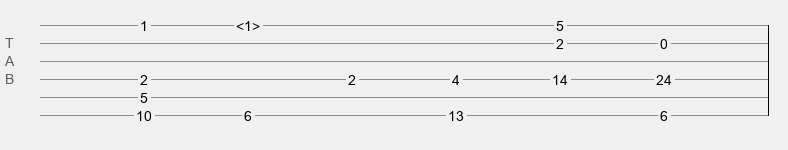0: (660, 36, 668, 46)
1: (140, 18, 148, 28)
10: (136, 108, 152, 118)
13: (448, 108, 464, 118)
14: (552, 72, 568, 82)
2: (140, 72, 148, 82), (348, 72, 356, 82), (556, 36, 564, 46)
24: (656, 72, 672, 82)
4: (452, 72, 460, 82)
5: (140, 90, 148, 100), (556, 18, 564, 28)
6: (244, 108, 252, 118), (660, 108, 668, 118)
harmonic: (236, 18, 260, 28)
